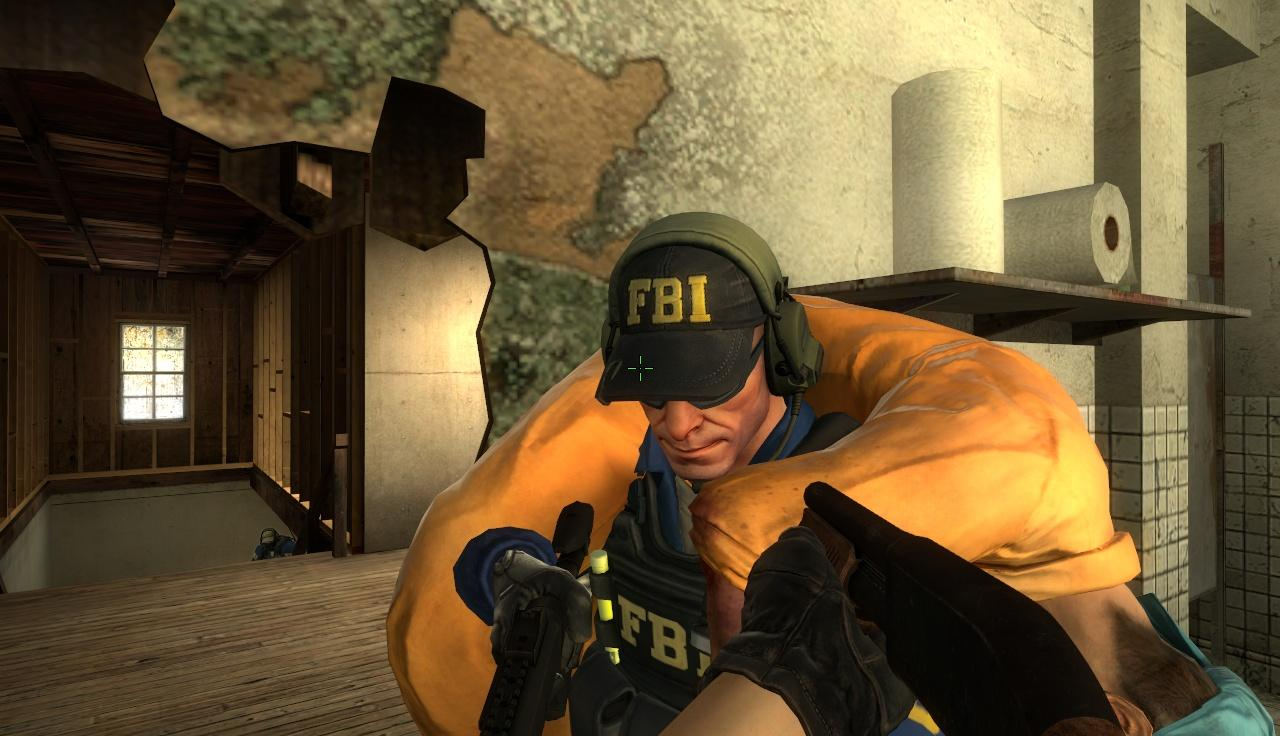ct: (502, 211, 793, 735), (256, 526, 295, 556)
cthead: (598, 208, 798, 479), (258, 527, 281, 550)
shotgun: (796, 478, 1127, 736)
